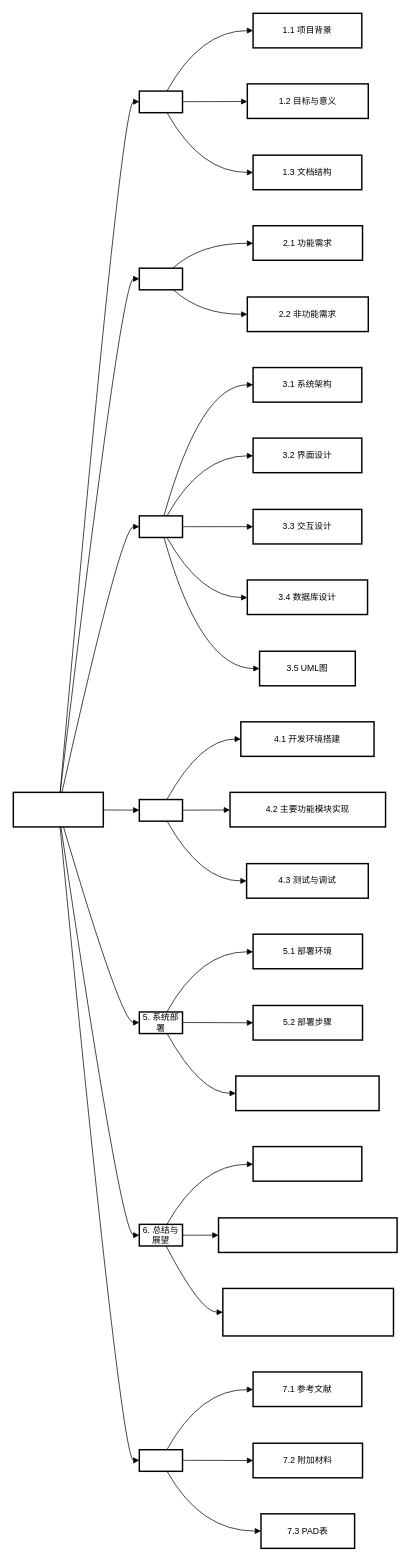
Some shapes in this 410 by 1561 pixel diagram are drawn without their labels. The centre of each missing label's shape, as x and y in pixels:
"1. 引言" goes at (x=160, y=101).
"2. 需求分析" goes at (x=160, y=278).
"3. 系统设计" goes at (x=160, y=526).
"4. 实现过程" goes at (x=160, y=810).
"5.3 系统运行与维护" goes at (x=307, y=1093).
"6.1 项目总结" goes at (x=307, y=1164).
"6.2 遇到的挑战与解决方案" goes at (x=307, y=1235).
"6.3 后续改进与功能扩展建议" goes at (x=308, y=1311).
"7. 附录" goes at (x=160, y=1460).
"文档结构" goes at (x=58, y=809).
